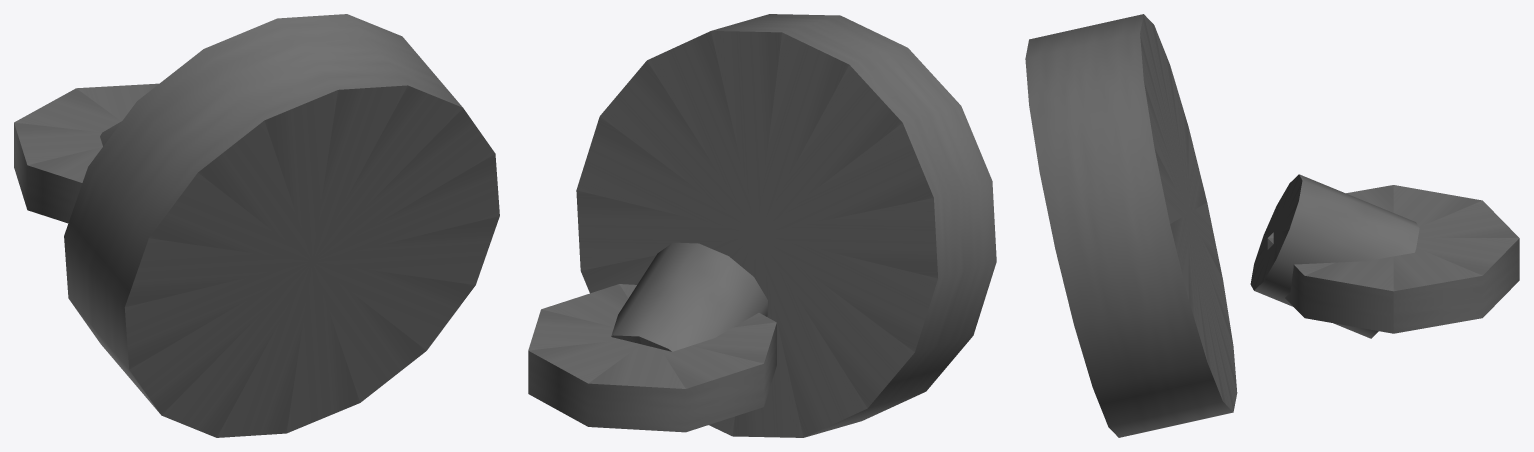
File: mastarmcurve_8x2_c5_up.obj
3 views of the same model, side by side, from view 1: azimuth 30°, elevation 25°; view 2: azimuth 150°, elevation 25°; view 3: azimuth 270°, elevation 25° (orthographic). The views are drawn at different scales.
Parts seen in each view (by area): view 1: mastarm_8x2_c5_up; view 2: mastarm_8x2_c5_up; view 3: mastarm_8x2_c5_up.
Part boxes in pixels (<box>): mastarm_8x2_c5_up: <box>14,14,499,437</box>; mastarm_8x2_c5_up: <box>528,14,996,437</box>; mastarm_8x2_c5_up: <box>1025,14,1519,437</box>.
Size of the model in its own units: 0.6492 by 0.6752 by 0.7849.
